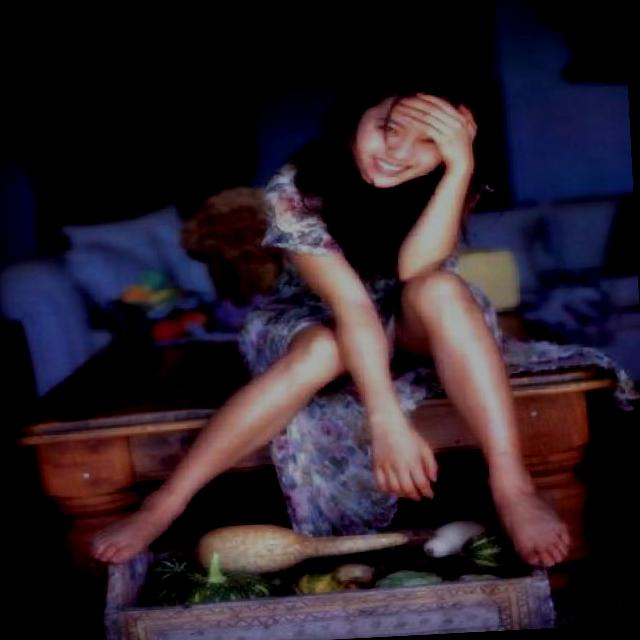Person: (44, 18, 610, 588)
